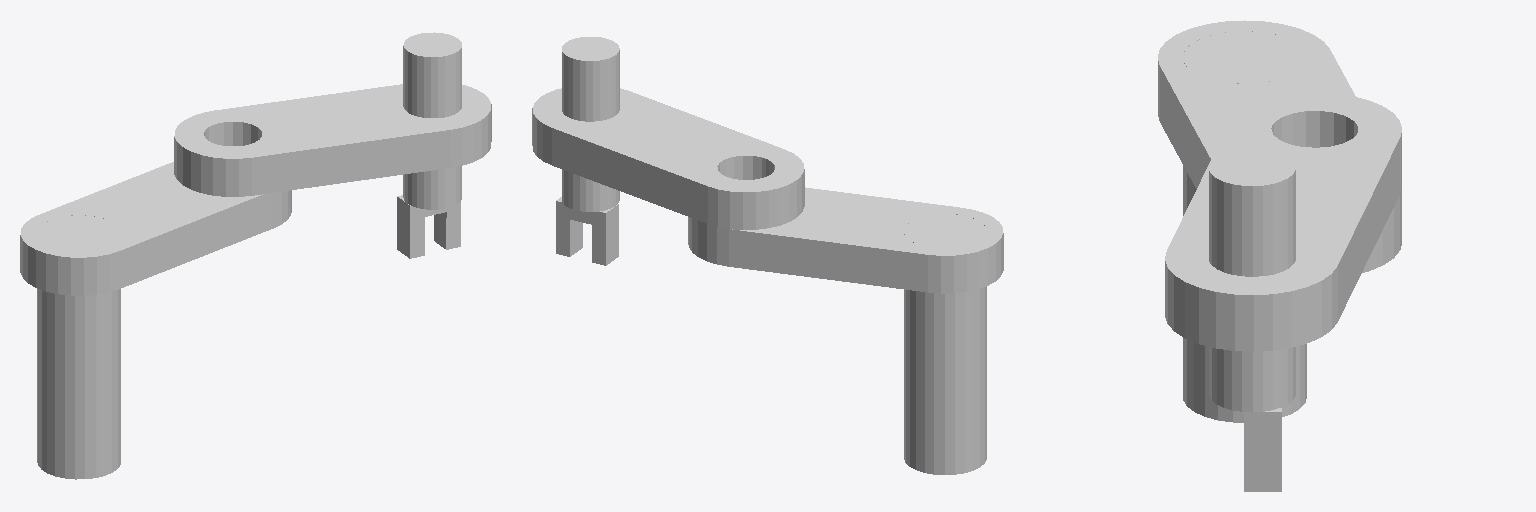
robot.urdf — scara_urdf:
<?xml version="1.0" encoding="utf-8"?>
<!-- This URDF was automatically created by SolidWorks to URDF Exporter! Originally created by Stephen Brawner (brawner@gmail.com) 
     Commit Version: 1.6.0-4-g7f85cfe  Build Version: 1.6.7995.38578
     For more information, please see http://wiki.ros.org/sw_urdf_exporter -->
<!-- VERSION PARA ROS 2 + GAZEBO (gz sim) — generada desde scara_urdf_corregido.urdf
     Cambios respecto al export de SolidWorks:
       - juntura1 y juntura2: continuous -> revolute con limites reales
       - todos los joints: effort distinto de cero (era 0 y bloqueaba
         ros2_control y Gazebo)
       - manita declarada revolute; si el robot debe ser de 3 GDL
         estrictos, cambiar su type a "fixed"
-->
<robot
  name="scara_urdf">

  <!-- ================= ANCLAJE AL MUNDO =================
       Sin esto Gazebo trata el robot como un cuerpo libre y se cae.
       El desplazamiento compensa el origen del ensamblaje de SolidWorks para
       que el eje de la junta 1 quede en (0, 0, 0.25) del mundo. -->
  <link name="world"/>
  <joint name="world_to_base" type="fixed">
    <parent link="world"/>
    <child link="Alvin"/>
    <origin xyz="0.14505 0.77092 -1.2344" rpy="0 0 0"/>
  </joint>

  <link
    name="Alvin">
    <inertial>
      <origin
        xyz="-0.14505 -0.77092 1.3844"
        rpy="0 0 0" />
      <mass
        value="2.3562" />
      <inertia
        ixx="0.019144"
        ixy="2.1505E-51"
        ixz="-3.415E-35"
        iyy="0.019144"
        iyz="-9.9186E-19"
        izz="0.0029452" />
    </inertial>
    <visual>
      <origin
        xyz="0 0 0"
        rpy="0 0 0" />
      <geometry>
        <mesh
          filename="package://scara_urdf/meshes/Alvin.STL" />
      </geometry>
      <material
        name="">
        <color
          rgba="0.89412 0.89412 0.89412 1" />
      </material>
    </visual>
    <collision>
      <origin
        xyz="0 0 0"
        rpy="0 0 0" />
      <geometry>
        <mesh
          filename="package://scara_urdf/meshes/Alvin.STL" />
      </geometry>
    </collision>
  </link>
  <link
    name="Simon">
    <inertial>
      <origin
        xyz="0.13444 0.025 -0.030876"
        rpy="0 0 0" />
      <mass
        value="1.9346" />
      <inertia
        ixx="0.004628"
        ixy="-3.8095E-19"
        ixz="0.0031704"
        iyy="0.021527"
        iyz="8.3923E-20"
        izz="0.017705" />
    </inertial>
    <visual>
      <origin
        xyz="0 0 0"
        rpy="0 0 0" />
      <geometry>
        <mesh
          filename="package://scara_urdf/meshes/Simon.STL" />
      </geometry>
      <material
        name="">
        <color
          rgba="0.89412 0.89412 0.89412 1" />
      </material>
    </visual>
    <collision>
      <origin
        xyz="0 0 0"
        rpy="0 0 0" />
      <geometry>
        <mesh
          filename="package://scara_urdf/meshes/Simon.STL" />
      </geometry>
    </collision>
  </link>
  <joint
    name="juntura1"
    type="revolute">
    <origin
      xyz="-0.14505 -0.77092 1.4844"
      rpy="1.5708 0 0.0011194" />
    <parent
      link="Alvin" />
    <child
      link="Simon" />
    <axis
      xyz="0 1 0" />
    <limit
      lower="-2.0944"
      upper="2.0944"
      effort="12"
      velocity="2.0" />
    <dynamics damping="0.5" friction="0.1"/>
  </joint>
  <link
    name="Teodoro">
    <inertial>
      <origin
        xyz="0.122460155916732 0.0249999999999999 0.025070105960079"
        rpy="0 0 0" />
      <mass
        value="2.13484510006475" />
      <inertia
        ixx="0.004851589913966"
        ixy="7.31625421190779E-19"
        ixz="-0.00353401567033521"
        iyy="0.0253528113883727"
        iyz="1.03676786823507E-19"
        izz="0.0213907402661003" />
    </inertial>
    <visual>
      <origin
        xyz="0 0 0"
        rpy="0 0 0" />
      <geometry>
        <mesh
          filename="package://scara_urdf/meshes/Teodoro.STL" />
      </geometry>
      <material
        name="">
        <color
          rgba="0.894117647058823 0.894117647058823 0.894117647058823 1" />
      </material>
    </visual>
    <collision>
      <origin
        xyz="0 0 0"
        rpy="0 0 0" />
      <geometry>
        <mesh
          filename="package://scara_urdf/meshes/Teodoro.STL" />
      </geometry>
    </collision>
  </link>
  <joint
    name="juntura2"
    type="revolute">
    <origin
      xyz="0.24366 0.05 -0.055959"
      rpy="0 -0.0020914 0" />
    <parent
      link="Simon" />
    <child
      link="Teodoro" />
    <axis
      xyz="0 1 0" />
    <limit
      lower="-2.618"
      upper="2.618"
      effort="8"
      velocity="2.0" />
    <dynamics damping="0.5" friction="0.1"/>
  </joint>
  <link
    name="Dave">
    <inertial>
      <origin
        xyz="6.66133814775094E-16 -0.0648093500290701 3.33066907387547E-16"
        rpy="0 0 0" />
      <mass
        value="0.7696902001295" />
      <inertia
        ixx="0.00280135162422132"
        ixy="-6.62422220230561E-21"
        ixz="4.23516473627149E-21"
        iyy="0.000471435247579319"
        iyz="8.06157379776966E-20"
        izz="0.00280135162422132" />
    </inertial>
    <visual>
      <origin
        xyz="0 0 0"
        rpy="0 0 0" />
      <geometry>
        <mesh
          filename="package://scara_urdf/meshes/Dave.STL" />
      </geometry>
      <material
        name="">
        <color
          rgba="0.894117647058823 0.894117647058823 0.894117647058823 1" />
      </material>
    </visual>
    <collision>
      <origin
        xyz="0 0 0"
        rpy="0 0 0" />
      <geometry>
        <mesh
          filename="package://scara_urdf/meshes/Dave.STL" />
      </geometry>
    </collision>
  </link>
  <joint
    name="vertiacal1"
    type="prismatic">
    <origin
      xyz="0.24492 0 0.05014"
      rpy="0 0.00097201 0" />
    <parent
      link="Teodoro" />
    <child
      link="Dave" />
    <axis
      xyz="0 1 0" />
    <limit
      lower="0.02"
      upper="0.17"
      effort="500"
      velocity="0.15" />
    <dynamics damping="5.0" friction="0.5"/>
  </joint>
  <link
    name="Ian">
    <inertial>
      <origin
        xyz="0.0789110363719798 0 -0.00858948178085339"
        rpy="0 0 0" />
      <mass
        value="0.102" />
      <inertia
        ixx="6.43000000000001E-05"
        ixy="-3.10192729707385E-22"
        ixz="7.50824986030051E-21"
        iyy="5.18147058823528E-05"
        iyz="9.88205105130021E-22"
        izz="0.000100814705882353" />
    </inertial>
    <visual>
      <origin
        xyz="0 0 0"
        rpy="0 0 0" />
      <geometry>
        <mesh
          filename="package://scara_urdf/meshes/Ian.STL" />
      </geometry>
      <material
        name="">
        <color
          rgba="0.894117647058823 0.894117647058823 0.894117647058823 1" />
      </material>
    </visual>
    <collision>
      <origin
        xyz="0 0 0"
        rpy="0 0 0" />
      <geometry>
        <mesh
          filename="package://scara_urdf/meshes/Ian.STL" />
      </geometry>
    </collision>
  </link>
  <joint
    name="manita"
    type="revolute">
    <origin
      xyz="0 -0.11649 0"
      rpy="0 0 -1.5708" />
    <parent
      link="Dave" />
    <child
      link="Ian" />
    <axis
      xyz="1 0 0" />
    <limit
      lower="-3.1416"
      upper="3.1416"
      effort="8"
      velocity="2.0" />
    <!-- la muneca es ligera: con el amortiguamiento de los ejes 1 y 2 tardaba
         medio minuto en llegar a la consigna -->
    <dynamics damping="0.02" friction="0.005"/>
  </joint>

  <!-- ================= GAZEBO (gz sim) =================
       JointStatePublisher publica el estado de las juntas (se puentea a
       /joint_states) y un JointPositionController por junta ejecuta las
       consignas que manda el nodo de cinematica inversa. -->
  <gazebo>
    <plugin filename="gz-sim-joint-state-publisher-system"
            name="gz::sim::systems::JointStatePublisher">
      <joint_name>juntura1</joint_name>
      <joint_name>juntura2</joint_name>
      <joint_name>vertiacal1</joint_name>
      <joint_name>manita</joint_name>
    </plugin>

    <plugin filename="gz-sim-joint-position-controller-system"
            name="gz::sim::systems::JointPositionController">
      <joint_name>juntura1</joint_name>
      <p_gain>60.0</p_gain> <i_gain>0.5</i_gain> <d_gain>8.0</d_gain>
      <i_max>10</i_max> <i_min>-10</i_min>
      <cmd_max>12</cmd_max> <cmd_min>-12</cmd_min>
    </plugin>

    <plugin filename="gz-sim-joint-position-controller-system"
            name="gz::sim::systems::JointPositionController">
      <joint_name>juntura2</joint_name>
      <p_gain>30.0</p_gain> <i_gain>0.3</i_gain> <d_gain>4.0</d_gain>
      <i_max>8</i_max> <i_min>-8</i_min>
      <cmd_max>8</cmd_max> <cmd_min>-8</cmd_min>
    </plugin>

    <!-- El husillo carga contra la gravedad: hace falta integral para que no
         se quede por debajo de la consigna. -->
    <plugin filename="gz-sim-joint-position-controller-system"
            name="gz::sim::systems::JointPositionController">
      <joint_name>vertiacal1</joint_name>
      <p_gain>4000.0</p_gain> <i_gain>800.0</i_gain> <d_gain>200.0</d_gain>
      <i_max>400</i_max> <i_min>-400</i_min>
      <cmd_max>400</cmd_max> <cmd_min>-400</cmd_min>
    </plugin>

    <plugin filename="gz-sim-joint-position-controller-system"
            name="gz::sim::systems::JointPositionController">
      <joint_name>manita</joint_name>
      <p_gain>60.0</p_gain> <i_gain>25.0</i_gain> <d_gain>1.0</d_gain>
      <i_max>5</i_max> <i_min>-5</i_min>
      <cmd_max>8</cmd_max> <cmd_min>-8</cmd_min>
    </plugin>
  </gazebo>
</robot>

--- Render facts (derived) ---
The picture shows the robot from 3 angles, left to right: view 1: azimuth 30°, elevation 25°; view 2: azimuth 150°, elevation 25°; view 3: azimuth 270°, elevation 25°; orthographic projection.
Robot: scara_urdf — 6 links, 5 joints (3 revolute, 1 prismatic, 1 fixed); root link world; default pose: all joints at 0 but 1 set to mid-range because 0 is outside their limits (vertiacal1 = 0.095).
Visible links, largest first — view 1: Teodoro, Simon, Alvin, Dave, Ian; view 2: Teodoro, Simon, Alvin, Dave, Ian; view 3: Teodoro, Dave, Simon, Alvin, Ian.
Link boxes in pixels (left/top/right/bottom): Teodoro: left=174, top=84, right=491, bottom=196; Simon: left=20, top=162, right=291, bottom=295; Alvin: left=37, top=215, right=120, bottom=479; Dave: left=403, top=32, right=461, bottom=209; Ian: left=397, top=195, right=460, bottom=258; Teodoro: left=532, top=88, right=804, bottom=229; Simon: left=688, top=187, right=1003, bottom=293; Alvin: left=904, top=214, right=986, bottom=474; Dave: left=562, top=37, right=619, bottom=211; Ian: left=556, top=197, right=618, bottom=265; Teodoro: left=1165, top=92, right=1401, bottom=351; Dave: left=1209, top=149, right=1295, bottom=411; Simon: left=1158, top=20, right=1401, bottom=272; Alvin: left=1183, top=31, right=1306, bottom=422; Ian: left=1244, top=408, right=1281, bottom=491.
Size in the robot's own frame: 0.6285 by 0.1962 by 0.4302 metres.
5 mesh visuals loaded from 5 distinct referenced files (5 binary STL).
